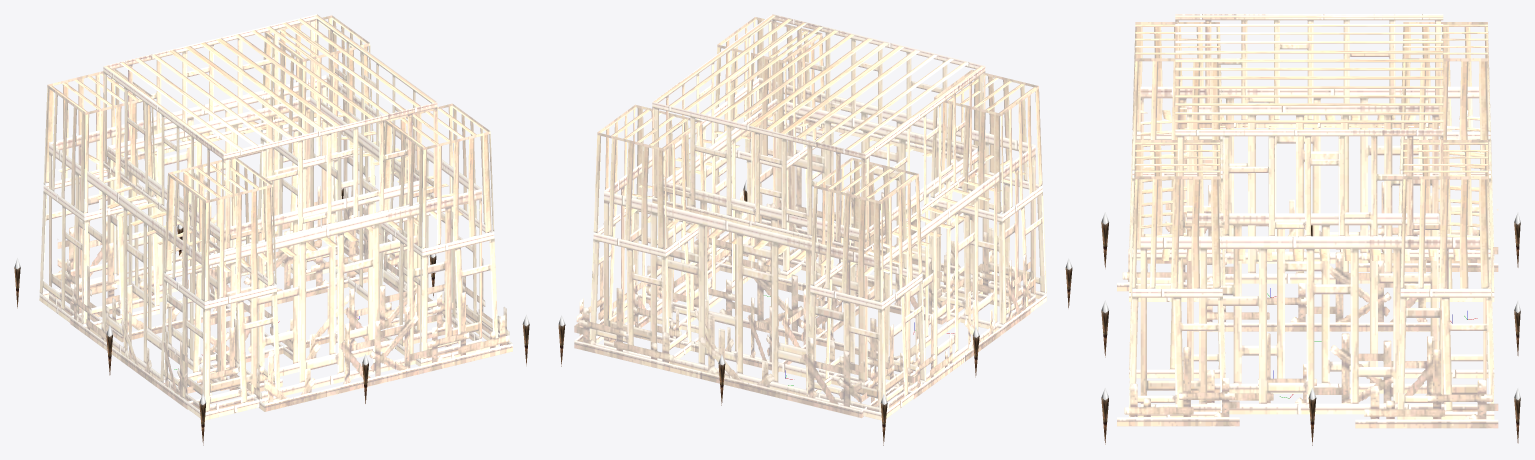
File: construction-c.glb
3 renders of one model, left to right at view 1: azimuth 30°, elevation 25°; view 2: azimuth 150°, elevation 25°; view 3: azimuth 270°, elevation 25°, orthographic. The views are drawn at different scales.
Parts seen in each view (by area): view 1: building e fortressconstructionModel; view 2: building e fortressconstructionModel; view 3: building e fortressconstructionModel.
Boxes of the visible parts, x1,y1,x2,y2 form: building e fortressconstructionModel: (14, 14, 529, 445); building e fortressconstructionModel: (558, 14, 1072, 445); building e fortressconstructionModel: (1101, 14, 1520, 445).
Size of the model in its own units: 10.06 by 7.49 by 10.
Materials: 4 (2 with a texture image).
